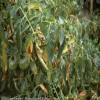Tomato Early blight leaf: (35, 40, 49, 70), (0, 42, 8, 80), (26, 32, 34, 61), (28, 1, 44, 15), (35, 25, 47, 40), (7, 9, 14, 32)
Tomato leaf: (14, 25, 22, 58), (46, 33, 54, 63), (59, 28, 64, 46)
